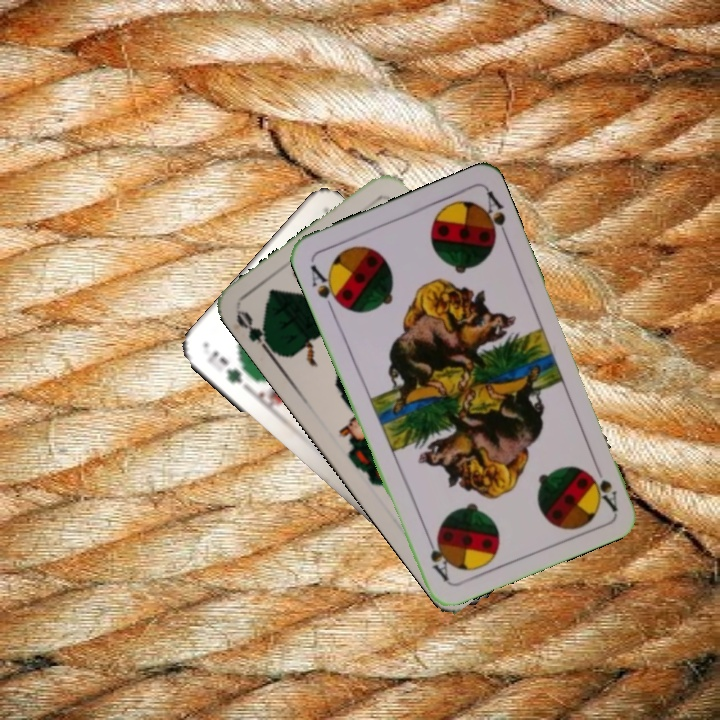GK: (203, 346, 245, 387)
GO: (232, 307, 279, 359)
SA: (306, 260, 346, 315), (587, 456, 621, 513)
